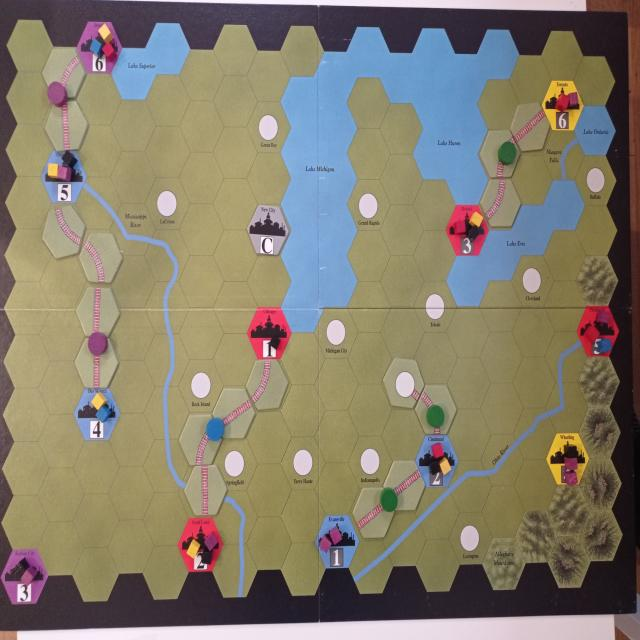13_3: (382, 359, 423, 410)
18_0: (247, 206, 289, 256)
2_1: (42, 48, 86, 99), (180, 414, 222, 466), (481, 130, 520, 180)
2_2: (41, 205, 83, 256)
2_4: (478, 178, 520, 229), (246, 363, 288, 410)
2_5: (80, 231, 122, 283), (416, 385, 456, 435)
3_0: (212, 387, 254, 440), (353, 484, 394, 538), (383, 460, 426, 511), (512, 101, 549, 152)
3_1: (44, 99, 88, 151), (184, 465, 228, 517), (76, 286, 118, 338), (75, 339, 118, 387)
